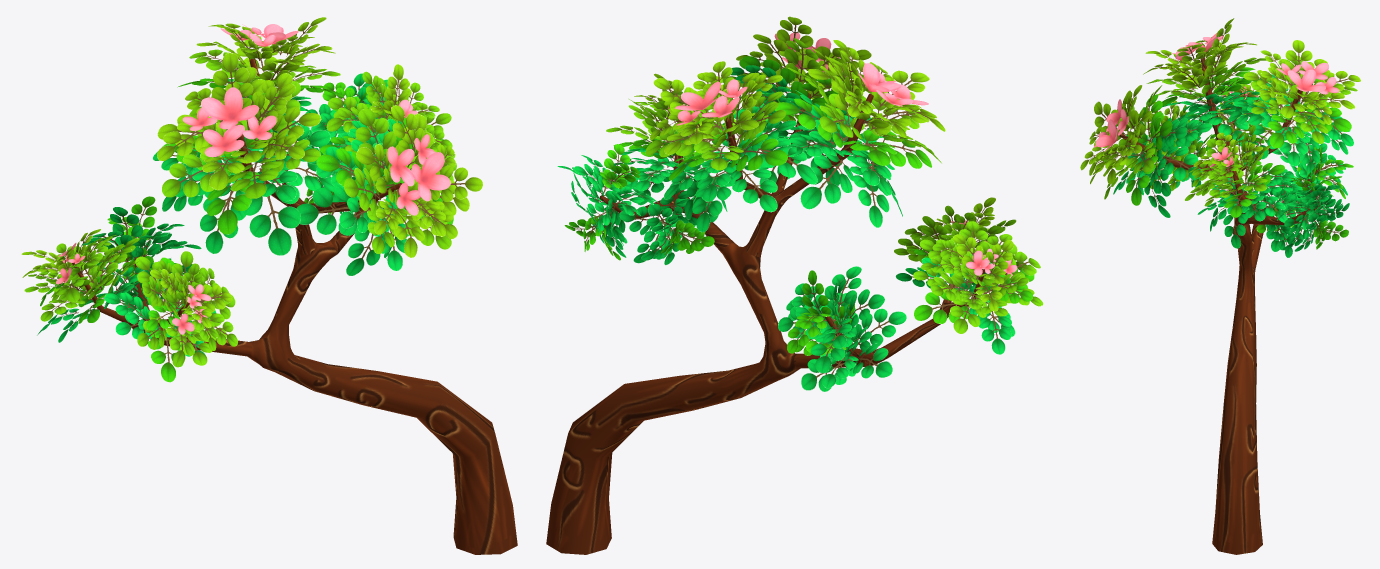
Rendered from Tree_2.glb.
The picture shows the model from 3 angles, left to right: view 1: azimuth 30°, elevation 25°; view 2: azimuth 150°, elevation 25°; view 3: azimuth 270°, elevation 25°; orthographic projection. The views are drawn at different scales.
Parts seen in each view (by area): view 1: TRT2; view 2: TRT2; view 3: TRT2.
Part boxes in pixels (x1,y1,x2,y2): TRT2: [21, 17, 517, 554]; TRT2: [546, 16, 1043, 554]; TRT2: [1080, 18, 1360, 554].
Bounding box in the file's own units: 6.81 × 7.47 × 4.51.
1 material, 1 textured.
